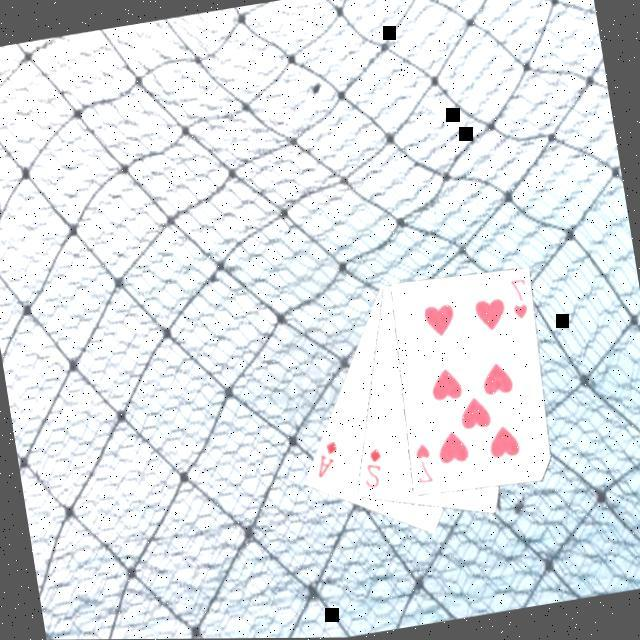2D: (358, 443, 390, 493)
7H: (506, 274, 536, 324), (410, 438, 439, 488)
AD: (310, 436, 346, 481)
